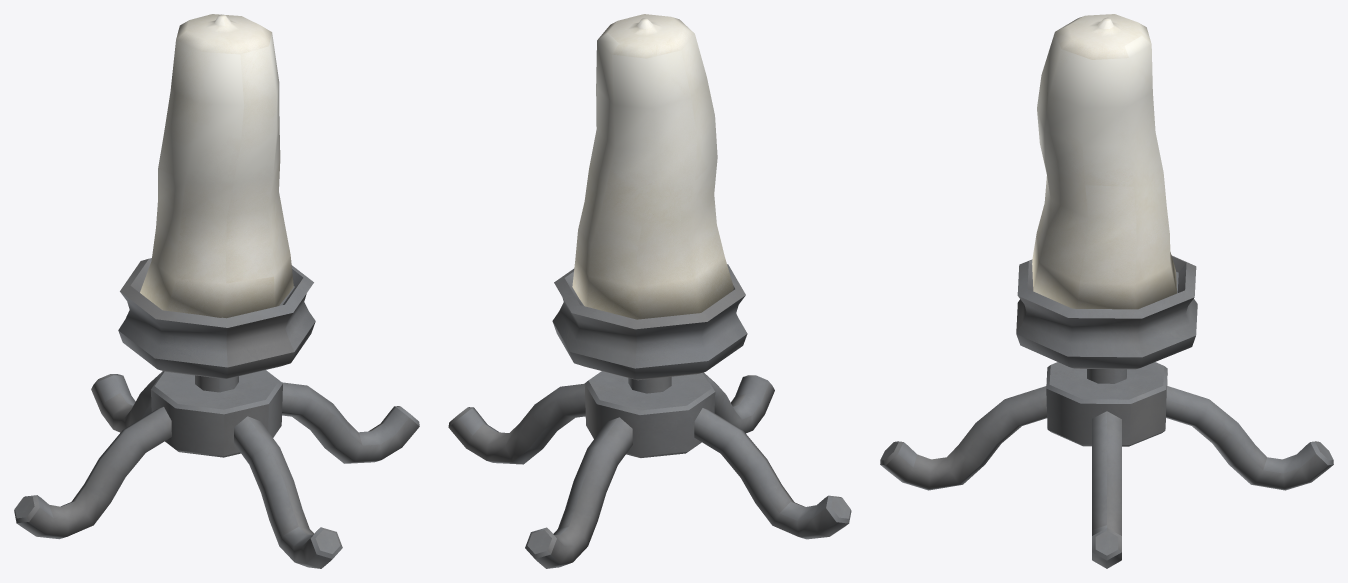
Rendered from подсвечник-2.fbx.
The picture shows the model from 3 angles, left to right: view 1: azimuth 30°, elevation 25°; view 2: azimuth 150°, elevation 25°; view 3: azimuth 270°, elevation 25°; orthographic projection. The views are drawn at different scales.
Parts seen in each view (by area): view 1: Свеча, Подсвечник, BézierCurve; view 2: Свеча, BézierCurve, Подсвечник; view 3: Свеча, Подсвечник, BézierCurve.
Boxes of the visible parts, box(x1,y1,x2,y2) form: Свеча: box(140, 14, 293, 318); Подсвечник: box(118, 258, 315, 457); BézierCurve: box(14, 371, 419, 568); Свеча: box(572, 14, 733, 319); BézierCurve: box(448, 373, 851, 568); Подсвечник: box(552, 264, 747, 457); Свеча: box(1032, 14, 1176, 309); Подсвечник: box(1016, 255, 1197, 446); BézierCurve: box(880, 386, 1333, 568).
Bounding box in the file's own units: 2.63 × 3.04 × 2.63.
2 materials, 2 textured.
